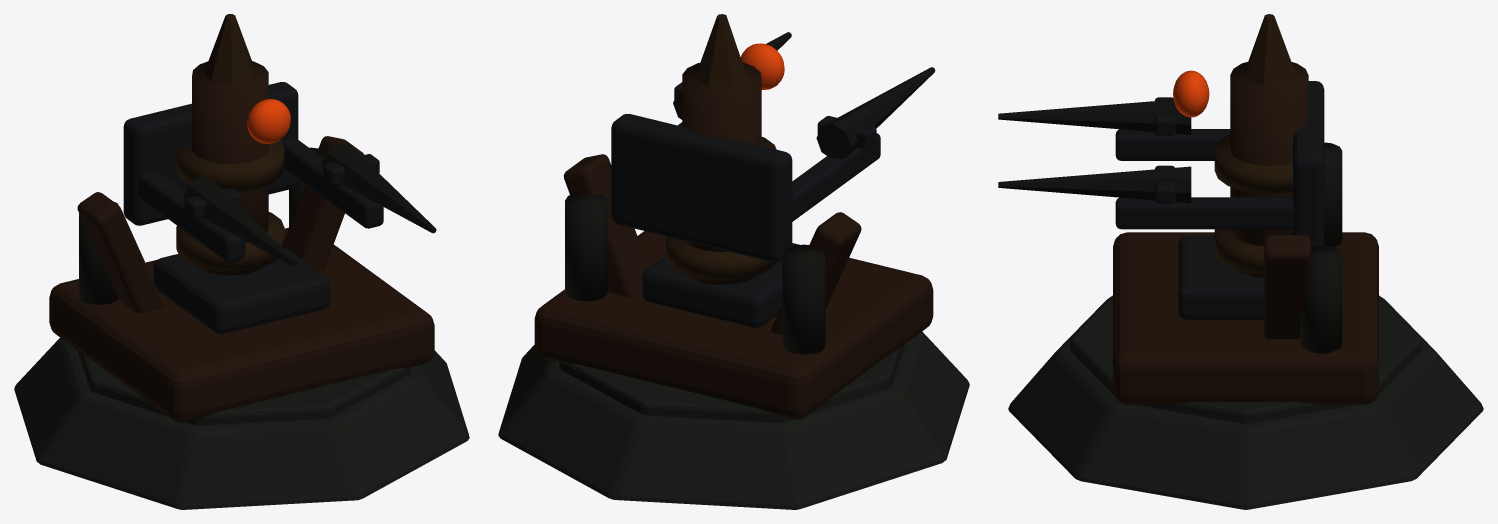
File: TowerAir3_pose.obj
3 views of the same model, side by side, from view 1: azimuth 30°, elevation 25°; view 2: azimuth 150°, elevation 25°; view 3: azimuth 270°, elevation 25° (orthographic). The views are drawn at different scales.
Visible parts, largest first — view 1: cut_stone_socket_lower_course, oak_sky_platform, iron_mast_socket, oak_launch_mast, iron_wind_shroud, cut_stone_socket_upper_course, oak_angled_stay, oak_angled_stay.001, iron_sky_rail, bronze_guide_collar.001, iron_sky_rail.001, sky_lance (+7 smaller); view 2: cut_stone_socket_lower_course, oak_sky_platform, iron_wind_shroud, cut_stone_socket_upper_course, iron_mast_socket, oak_launch_mast, reserve_lance_tube, reserve_lance_tube.001, oak_angled_stay.001, sky_lance, iron_sky_rail, bronze_guide_collar (+4 smaller); view 3: cut_stone_socket_lower_course, oak_sky_platform, oak_launch_mast, cut_stone_socket_upper_course, iron_sky_rail.001, iron_mast_socket, oak_angled_stay.001, iron_wind_shroud, reserve_lance_tube.001, sky_lance.001, sky_lance, iron_sky_rail (+6 smaller).
Boxes of the visible parts, x1,y1,x2,y2 form: cut_stone_socket_lower_course: (14, 337, 469, 509); oak_sky_platform: (49, 227, 434, 422); iron_mast_socket: (153, 247, 330, 334); oak_launch_mast: (192, 61, 268, 275); iron_wind_shroud: (123, 82, 298, 225); cut_stone_socket_upper_course: (77, 350, 410, 425); oak_angled_stay: (77, 192, 164, 313); oak_angled_stay.001: (284, 136, 364, 270); iron_sky_rail: (138, 171, 245, 262); bronze_guide_collar.001: (177, 140, 284, 191); iron_sky_rail.001: (281, 137, 383, 228); sky_lance: (183, 177, 297, 266); cut_stone_socket_lower_course: (498, 331, 969, 509); oak_sky_platform: (534, 231, 933, 419); iron_wind_shroud: (611, 114, 792, 262); cut_stone_socket_upper_course: (559, 345, 904, 422); iron_mast_socket: (642, 243, 799, 327); oak_launch_mast: (682, 62, 761, 284); reserve_lance_tube: (782, 244, 825, 354); reserve_lance_tube.001: (565, 192, 607, 301); oak_angled_stay.001: (563, 154, 648, 297); sky_lance: (816, 67, 935, 159); iron_sky_rail: (792, 133, 880, 221); bronze_guide_collar: (666, 236, 775, 280); cut_stone_socket_lower_course: (1008, 295, 1483, 509); oak_sky_platform: (1113, 232, 1378, 404); oak_launch_mast: (1230, 62, 1308, 277); cut_stone_socket_upper_course: (1070, 295, 1421, 423); iron_sky_rail.001: (1115, 197, 1294, 229); iron_mast_socket: (1178, 236, 1264, 319); oak_angled_stay.001: (1264, 235, 1311, 339); iron_wind_shroud: (1293, 81, 1324, 246); reserve_lance_tube.001: (1300, 245, 1342, 353); sky_lance.001: (998, 166, 1191, 203); sky_lance: (998, 99, 1191, 134); iron_sky_rail: (1115, 129, 1230, 160).
Bounding box in the file's own units: 1.82 × 1.67 × 1.86.
